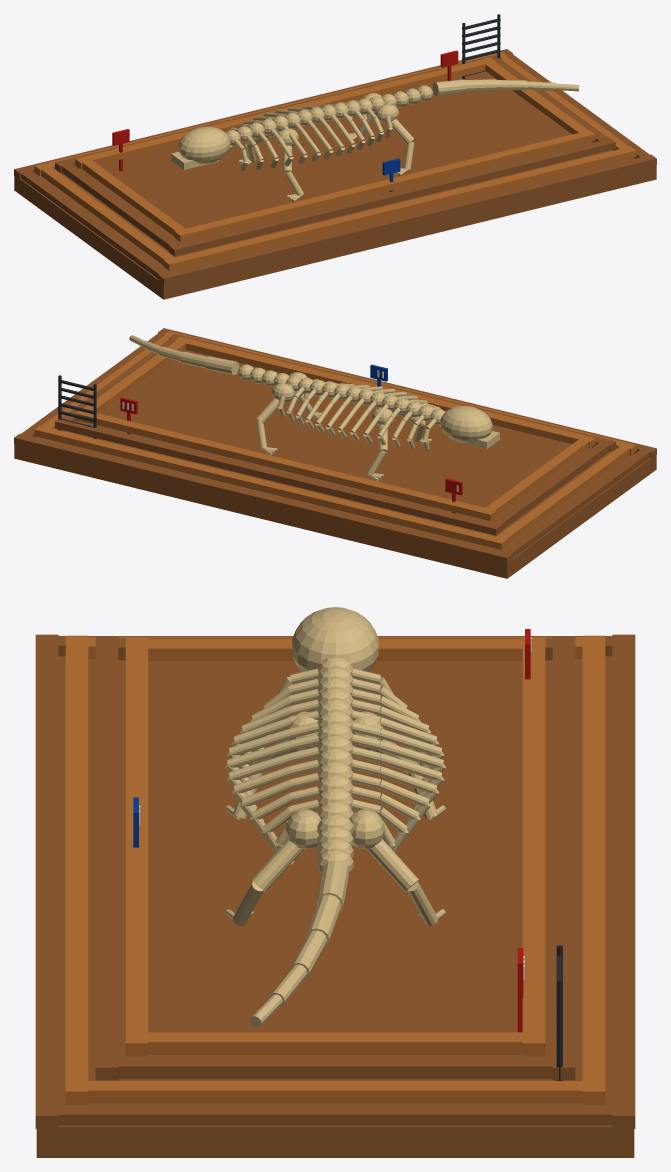
File: excavation.obj
3 renders of one model, top to bottom at view 1: azimuth 30°, elevation 25°; view 2: azimuth 150°, elevation 25°; view 3: azimuth 270°, elevation 25°, orthographic. The views are drawn at different scales.
Visible parts, largest first — view 1: sandstone, ochre, bone, metal, markerRed; view 2: sandstone, ochre, bone, metal, markerRed; view 3: sandstone, ochre, bone, metal, markerRed.
Part boxes in pixels (x1,y1,x2,y2): sandstone: [14, 49, 656, 299]; ochre: [34, 52, 636, 270]; bone: [171, 79, 579, 202]; metal: [462, 14, 500, 79]; markerRed: [112, 50, 458, 171]; sandstone: [14, 328, 656, 578]; ochre: [34, 331, 636, 549]; bone: [129, 335, 499, 481]; metal: [58, 375, 96, 438]; markerRed: [120, 397, 462, 513]; sandstone: [35, 634, 635, 1157]; ochre: [65, 635, 605, 1104]; bone: [225, 607, 445, 1027]; metal: [556, 945, 562, 1080]; markerRed: [517, 629, 530, 1032].
Bounding box in the file's own units: 16 × 2.71 × 8.42.
